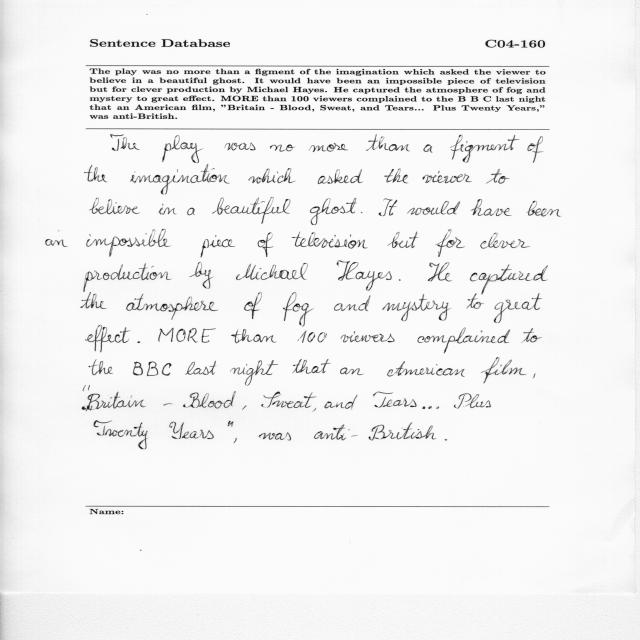word: (130, 165, 230, 195), (84, 263, 172, 292), (127, 294, 219, 320), (418, 328, 510, 354), (86, 229, 171, 257), (470, 265, 548, 295), (314, 423, 436, 441), (213, 197, 291, 224), (450, 135, 519, 163), (382, 294, 451, 321), (82, 385, 146, 411), (337, 261, 392, 291), (183, 385, 246, 409), (94, 421, 148, 449), (494, 293, 542, 323), (291, 232, 368, 249), (310, 198, 357, 225), (230, 360, 278, 386), (387, 361, 465, 377), (236, 263, 308, 280), (86, 325, 131, 352), (481, 358, 526, 384), (162, 135, 203, 163), (283, 292, 314, 327), (262, 392, 317, 408), (158, 328, 216, 343), (480, 233, 531, 249), (436, 229, 465, 257), (90, 198, 140, 214), (201, 236, 236, 258), (248, 168, 296, 184), (169, 422, 214, 439), (366, 134, 410, 151), (408, 201, 460, 215), (373, 392, 417, 408), (471, 199, 511, 216), (318, 169, 363, 184), (231, 330, 277, 344), (189, 262, 213, 288), (423, 171, 473, 183), (341, 332, 395, 343), (334, 295, 371, 311), (454, 393, 491, 409), (292, 359, 331, 374), (133, 362, 171, 377), (526, 201, 561, 216), (325, 395, 358, 410), (111, 134, 140, 151), (244, 292, 262, 319), (388, 232, 418, 248), (428, 263, 452, 282), (81, 292, 107, 309), (185, 361, 216, 375), (528, 136, 544, 163), (258, 232, 274, 257), (85, 165, 108, 182), (89, 359, 113, 375), (298, 330, 327, 343), (384, 169, 408, 184), (309, 143, 348, 152), (486, 169, 509, 184), (47, 231, 68, 247), (521, 328, 542, 343), (379, 199, 397, 216), (259, 432, 291, 441), (467, 293, 484, 309), (225, 143, 256, 151), (159, 204, 177, 215), (270, 145, 295, 152), (340, 368, 364, 375), (423, 144, 433, 153), (187, 208, 195, 216), (422, 406, 439, 409), (228, 421, 233, 427), (242, 405, 247, 410), (163, 404, 173, 406), (83, 385, 86, 391), (313, 408, 317, 412), (533, 374, 536, 379), (234, 438, 237, 443), (138, 341, 141, 343), (399, 279, 401, 281), (445, 439, 447, 441), (361, 212, 363, 213)
